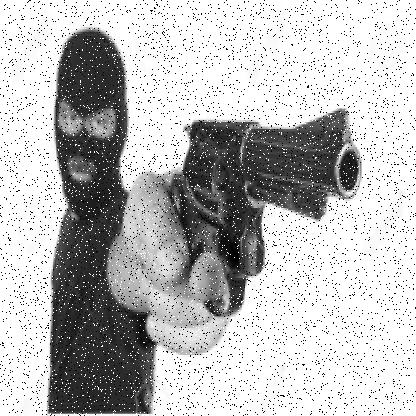pistol: (160, 109, 360, 317)
